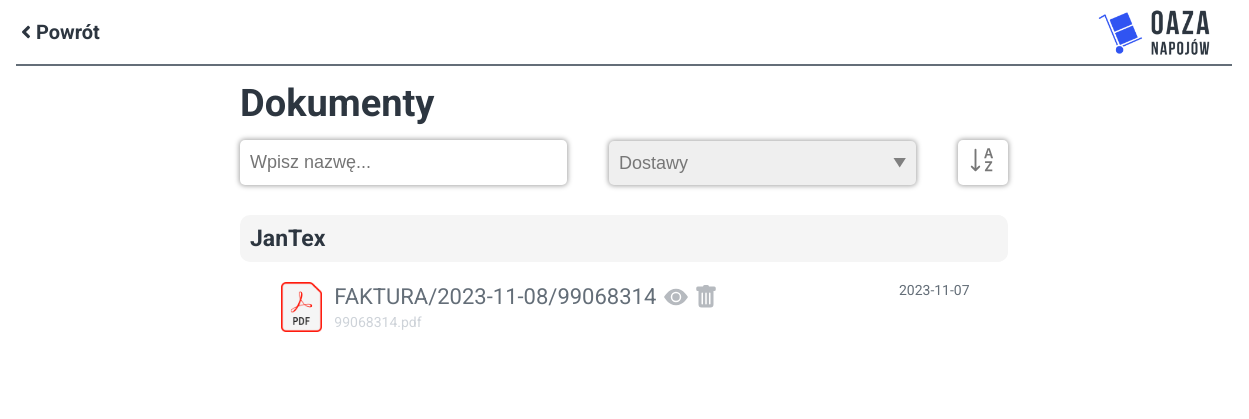
Test: Documents › FiltersFilesProperly
Expected: the text "FAKTURA/2023-11-23/65611443" is not shown
Select "Zamówienia" in the dropdown with test id "Select" at x=763, y=162, box top-left (609, 140), bottom-right (916, 184)
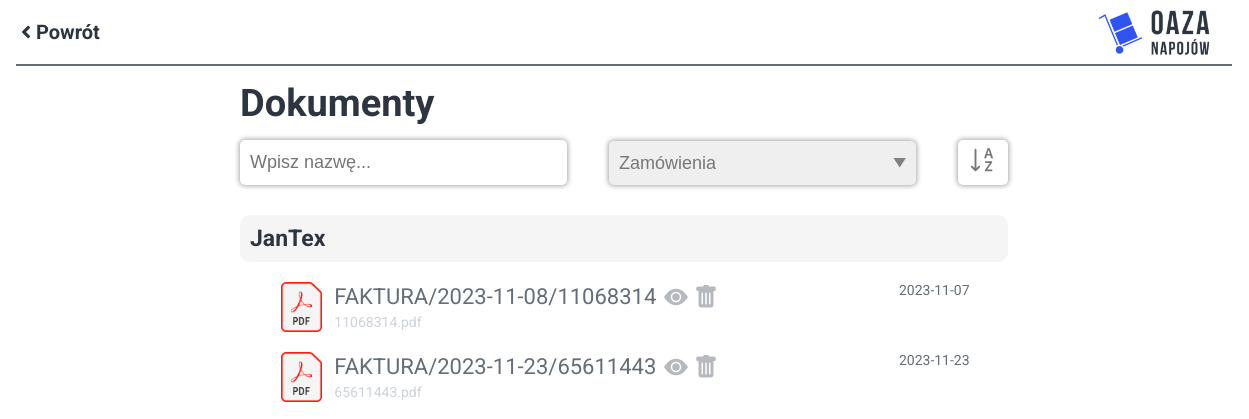
Result: the text "FAKTURA/2023-11-23/65611443" is shown at top-left (334, 354), bottom-right (656, 379)
Result: the text "FAKTURA/2023-11-08/11068314" is shown at top-left (334, 284), bottom-right (656, 309)
Type "65611443" into the field with placeholder "Wpisz nazwę..." at x=404, y=162, box top-left (240, 140), bottom-right (567, 185)
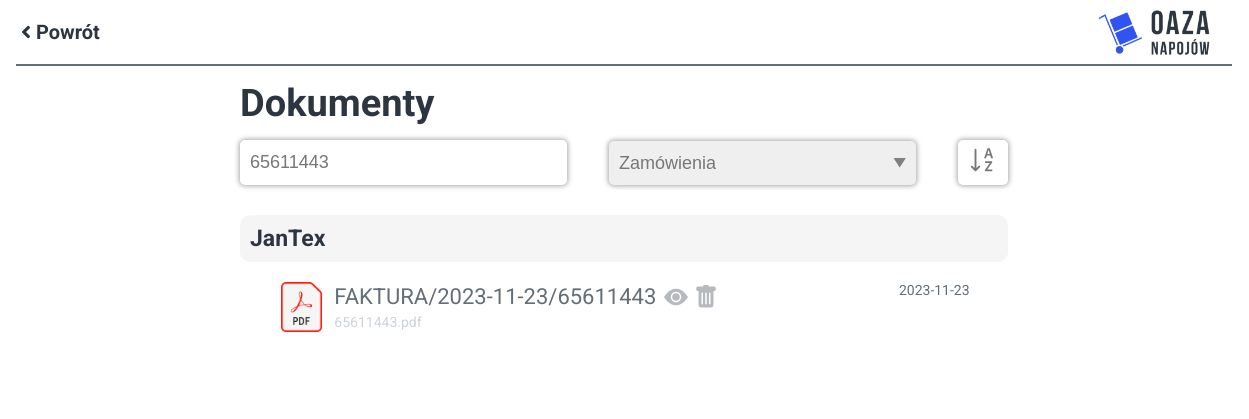
Result: the text "FAKTURA/2023-11-08/11068314" is gone
